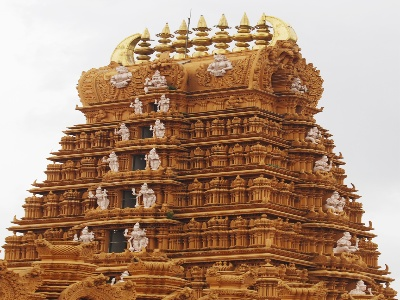gopura: (11, 32, 385, 279)
